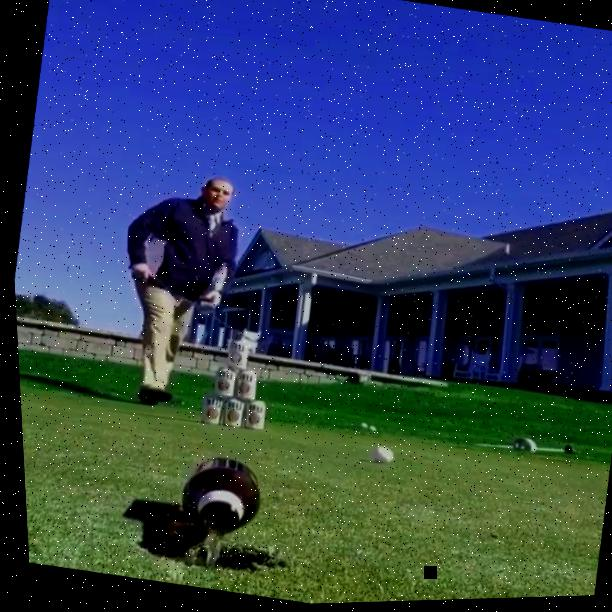ClubHead: (250, 335, 266, 346)
GolfBall: (369, 448, 388, 466), (355, 424, 363, 431), (364, 428, 371, 433)
